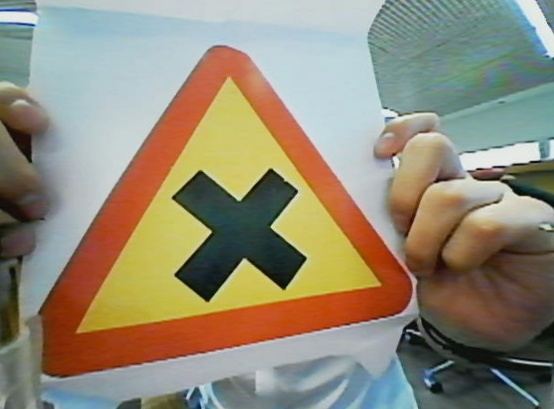junction: (46, 46, 478, 363)
